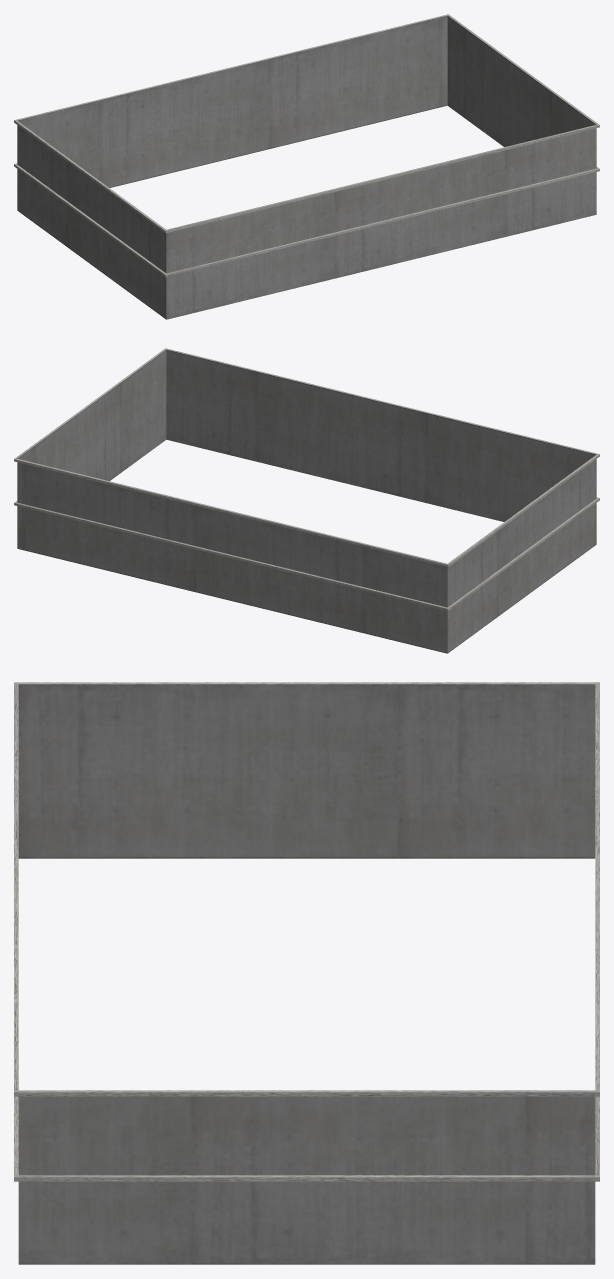
File: immeuble.fbx
The picture shows the model from 3 angles, top to bottom: view 1: azimuth 30°, elevation 25°; view 2: azimuth 150°, elevation 25°; view 3: azimuth 270°, elevation 25°; orthographic projection. The views are drawn at different scales.
Visible parts, largest first — view 1: Cube, Toit; view 2: Cube, Toit; view 3: Cube, Toit.
Boxes of the visible parts, x1,y1,x2,y2 form: Cube: (17,15,596,319); Toit: (14,14,599,277); Cube: (17,349,596,653); Toit: (14,348,599,611); Cube: (18,684,595,1264); Toit: (14,682,599,1181).
Bounding box in the file's own units: 202 × 40 × 122.
